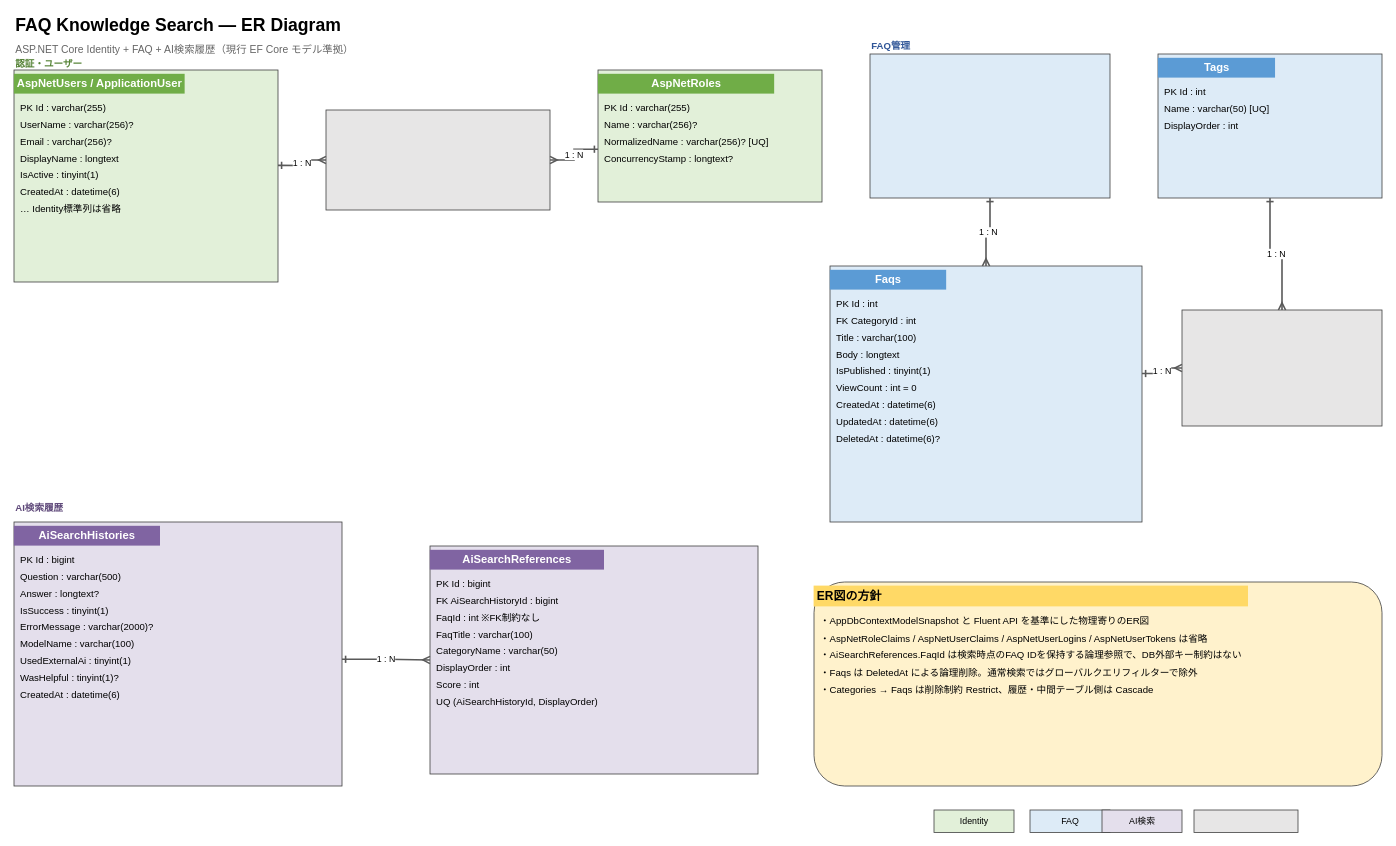
Image size: 1396x846. Some labels were removed from this diagram. The centre of each missing label's shape, as x and y in pixels:
AspNetUserRoles PK/FK UserId : varchar(255) PK/FK RoleId : varchar(255): the point at 437,159
Categories PK Id : int Name : varchar(50) [UQ] DisplayOrder : int: the point at 989,125
FaqTags PK/FK FaqId : int PK/FK TagId : int: the point at 1281,367
中間テーブル: the point at 1245,820
